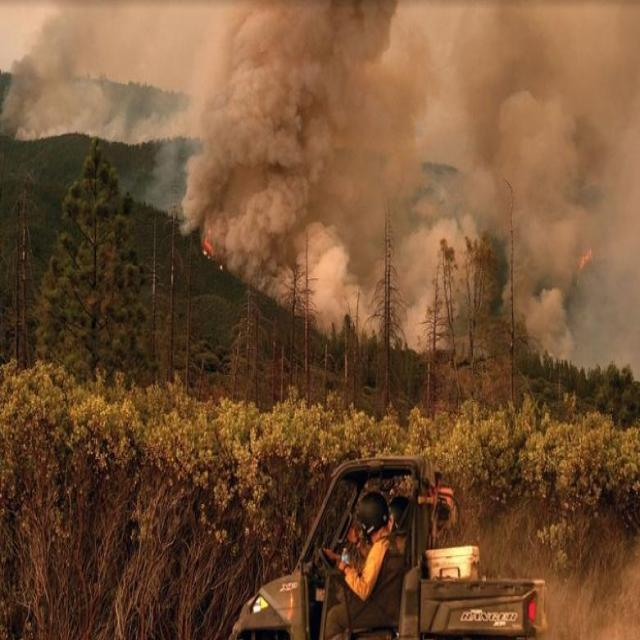Fire: (202, 227, 213, 256)
Smoke: (1, 1, 640, 382)
